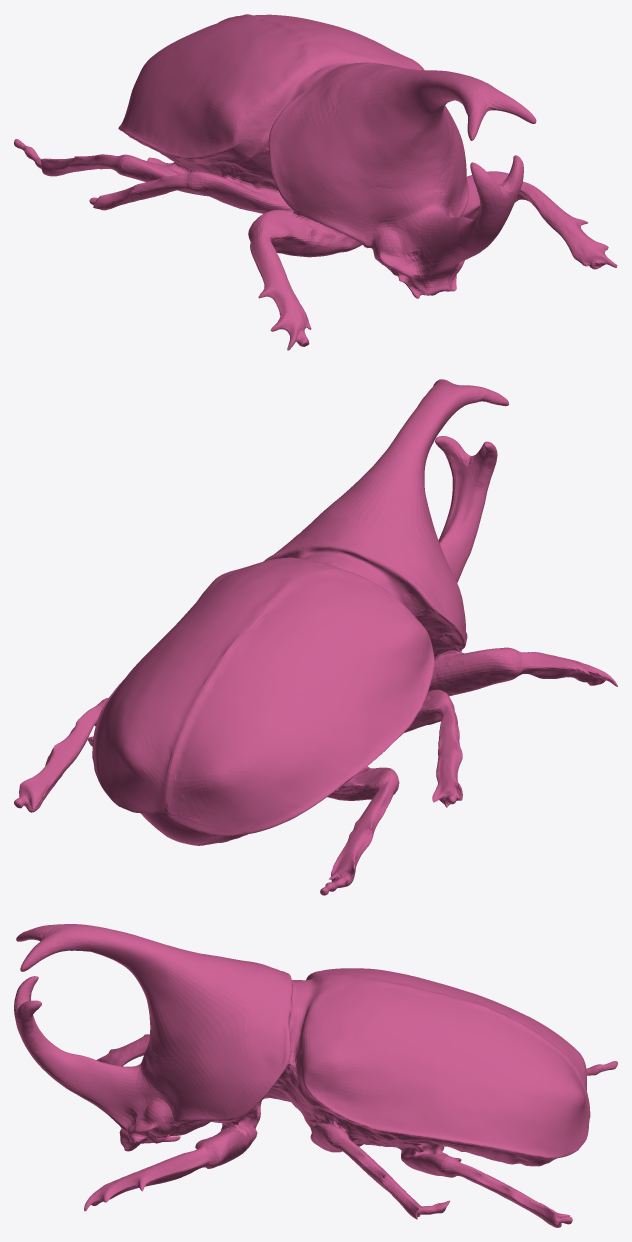
The model's file is beetle.FBX.
The picture shows the model from 3 angles, top to bottom: view 1: azimuth 30°, elevation 25°; view 2: azimuth 150°, elevation 25°; view 3: azimuth 270°, elevation 25°; orthographic projection. The views are drawn at different scales.
Parts seen in each view (by area): view 1: 002-0-2; view 2: 002-0-2; view 3: 002-0-2.
Part boxes in pixels (<box>): 002-0-2: <box>14,14,617,350</box>; 002-0-2: <box>14,379,617,895</box>; 002-0-2: <box>14,924,617,1227</box>.
Bounding box in the file's own units: 101 × 68.64 × 159.
